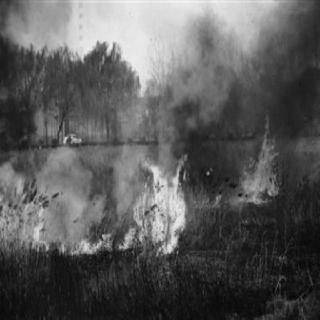Fire: (4, 151, 216, 258), (233, 115, 291, 208)
